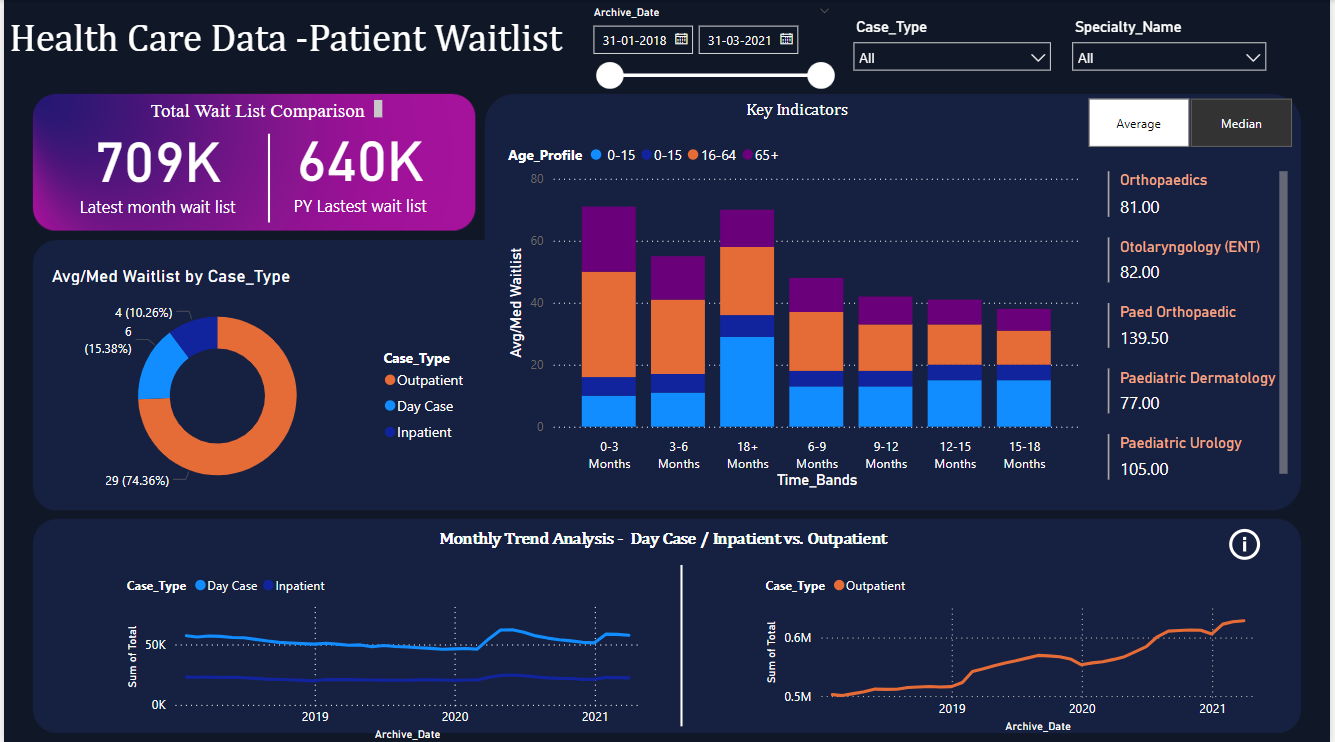

Layout of this report page (visuals, bound fields, positions):
{"tool":"powerbi","page":{"name":"Summary Page","canvas":[1280,720],"ordinal":0},"visuals":[{"type":"card","fields":{"Values":["All_Data.Latest month wait list"]},"box":[41,97.7,214.7,126.7],"z":0},{"type":"card","fields":{"Values":["All_Data.PY Lastest wait list"]},"box":[249.7,96.5,188.2,126.7],"z":1000},{"type":"slicer","fields":{"Values":["Calculation Method.Calc Method"]},"box":[1020.6,88.1,246.1,60.3],"z":2000},{"type":"donutChart","fields":{"Category":["All_Data.Case_Type"],"Y":["All_Data.Avg/Med Waitlist"]},"box":[41,255.8,416.2,234],"z":3000},{"type":"columnChart","fields":{"Category":["All_Data.Time_Bands"],"Y":["All_Data.Avg/Med Waitlist"],"Series":["All_Data.Age_Profile"]},"box":[481.4,129.1,562.2,347.5],"z":4000},{"type":"multiRowCard","fields":{"Values":["All_Data.Speciality_Name","All_Data.Avg/Med Waitlist"]},"box":[1060.5,160.5,183.4,316.1],"z":5000},{"type":"lineChart","fields":{"Category":["All_Data.Archive_Date"],"Y":["Sum(All_Data.Total)"],"Series":["All_Data.Case_Type"]},"box":[113.4,545.3,507.9,174.9],"z":6000},{"type":"lineChart","fields":{"Category":["All_Data.Archive_Date"],"Y":["Sum(All_Data.Total)"],"Series":["All_Data.Case_Type"]},"box":[729.9,545.3,485,166.5],"z":7000},{"type":"slicer","fields":{"Values":["All_Data.Archive_Date"]},"box":[556.2,0,253.4,88.1],"z":8000},{"type":"slicer","fields":{"Values":["All_Data.Case_Type"]},"box":[809.5,12.1,211.1,67.6],"z":9000},{"type":"slicer","fields":{"Values":["All_Data.Specialty_Name"]},"box":[1020.6,12.1,207.5,67.6],"z":10000},{"type":"textbox","box":[0,12.1,564.6,67.6],"z":11000},{"type":"shape","box":[223.2,129.1,65.1,85.7],"z":12000},{"type":"textbox","box":[136.3,91.7,234,29],"z":13000},{"type":"textbox","box":[415,505.5,476.5,29],"z":14000},{"type":"textbox","box":[710.6,91.7,149.6,29],"z":15000},{"type":"actionButton","box":[1177.5,505.5,50.7,39.8],"z":16000},{"type":"shape","box":[621.3,545.3,65.1,155.6],"z":16001}]}

Visuals, with their boxes in screenshot pixels (x1, y1, x2, y2), scaled from the page's 1280x720 canvas onto the 1335x742 screenshot:
card - All_Data.Latest month wait list: [x1=43, y1=101, x2=267, y2=231]
card - All_Data.PY Lastest wait list: [x1=260, y1=99, x2=457, y2=230]
slicer - Calculation Method.Calc Method: [x1=1064, y1=91, x2=1321, y2=153]
donutChart - All_Data.Case_Type x All_Data.Avg/Med Waitlist: [x1=43, y1=264, x2=477, y2=505]
columnChart - All_Data.Time_Bands x All_Data.Avg/Med Waitlist: [x1=502, y1=133, x2=1088, y2=491]
multiRowCard - All_Data.Speciality_Name x All_Data.Avg/Med Waitlist: [x1=1106, y1=165, x2=1297, y2=491]
lineChart - All_Data.Archive_Date x Sum(All_Data.Total): [x1=118, y1=562, x2=648, y2=741]
lineChart - All_Data.Archive_Date x Sum(All_Data.Total): [x1=761, y1=562, x2=1267, y2=734]
slicer - All_Data.Archive_Date: [x1=580, y1=0, x2=844, y2=91]
slicer - All_Data.Case_Type: [x1=844, y1=12, x2=1064, y2=82]
slicer - All_Data.Specialty_Name: [x1=1064, y1=12, x2=1281, y2=82]
textbox: [x1=0, y1=12, x2=589, y2=82]
shape: [x1=233, y1=133, x2=301, y2=221]
textbox: [x1=142, y1=95, x2=386, y2=124]
textbox: [x1=433, y1=521, x2=930, y2=551]
textbox: [x1=741, y1=95, x2=897, y2=124]
actionButton: [x1=1228, y1=521, x2=1281, y2=562]
shape: [x1=648, y1=562, x2=716, y2=722]
